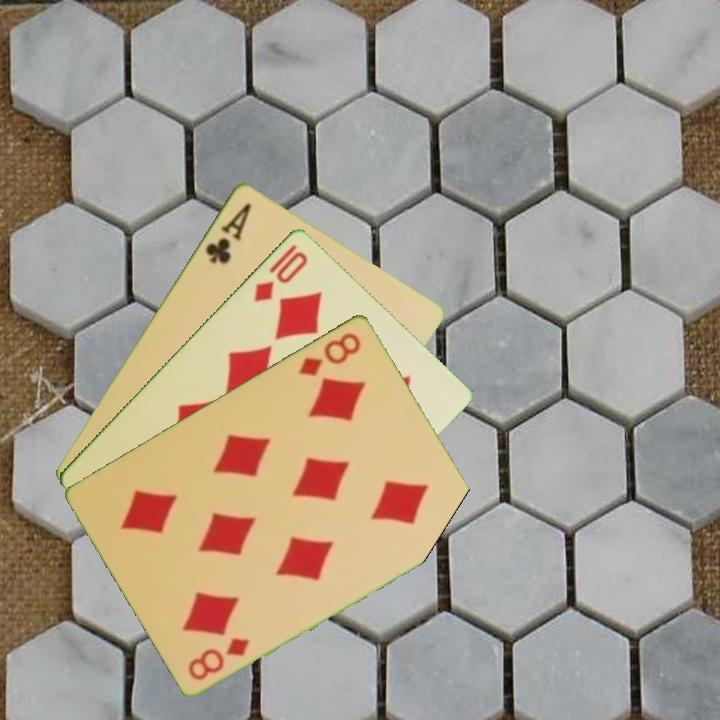10d: (250, 247, 311, 304)
8d: (294, 328, 364, 379), (184, 633, 253, 683)
Ac: (202, 199, 254, 267)
